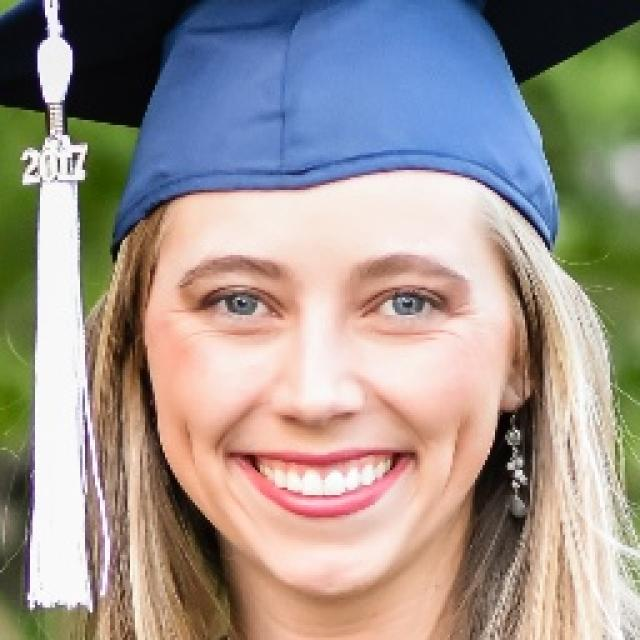earlobe: (500, 362, 540, 414)
eye: (196, 288, 280, 324), (361, 290, 450, 318)
nose: (277, 409, 365, 441)
